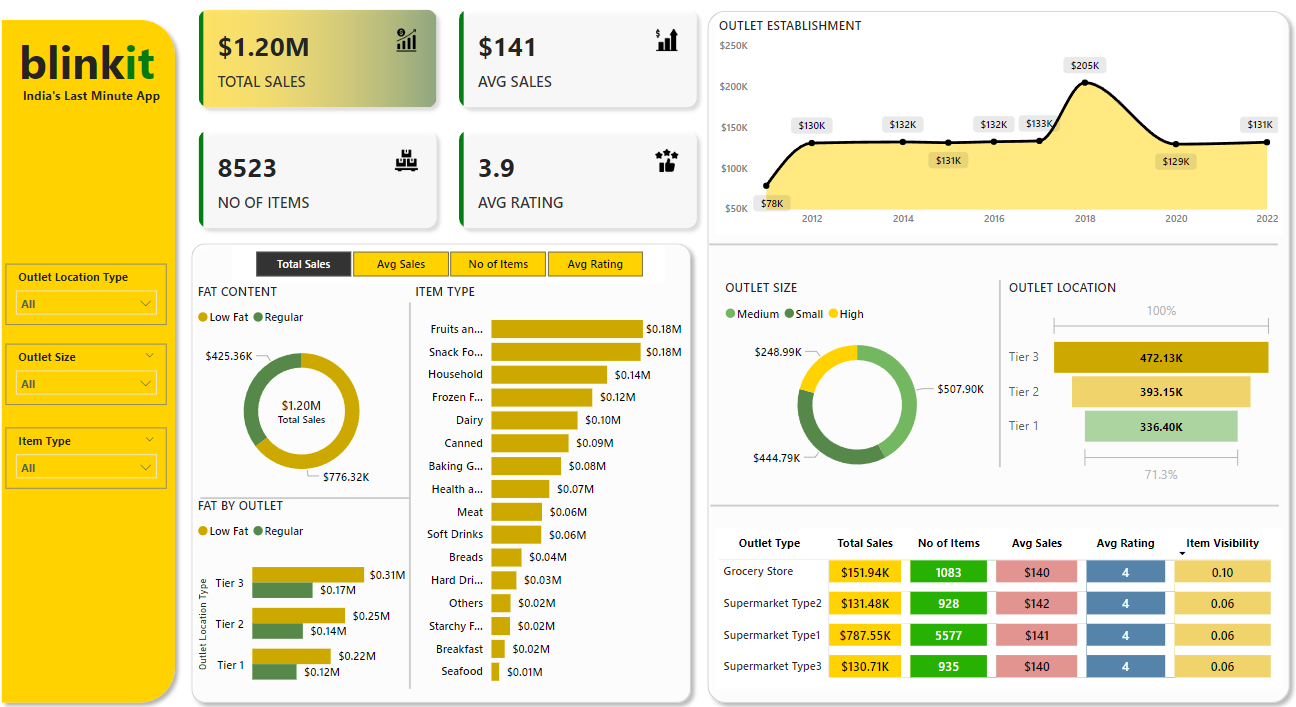

What the dashboard file says about the page in this screenshot:
{"tool":"powerbi","page":{"name":"Page 1","canvas":[1400,800],"ordinal":0},"visuals":[{"type":"shape","box":[0,49.5,204.1,750.4],"z":0},{"type":"textbox","box":[22.8,65.7,163.5,75.1],"z":1000},{"type":"textbox","box":[26.8,126,176.9,29.5],"z":2000},{"type":"cardVisual","fields":{"Data":["BlinkIT Grocery Data.Total Sales","BlinkIT Grocery Data.Avg Sales","BlinkIT Grocery Data.No of Items","BlinkIT Grocery Data.Avg Rating"]},"box":[203.8,30.8,569.7,269.4],"z":3000},{"type":"shape","box":[203.8,289.5,553.6,510.7],"z":4000},{"type":"donutChart","title":"FAT CONTENT","fields":{"Y":["BlinkIT Grocery Data.Avg Rating"],"Category":["BlinkIT Grocery Data.Item Fat Content"]},"box":[214.5,340.5,233.2,230.6],"z":5000},{"type":"slicer","fields":{"Values":["Metrics.Metrics"]},"box":[256,300.3,465.1,40.2],"z":6000},{"type":"cardVisual","fields":{"Data":["BlinkIT Grocery Data.Avg Rating"]},"box":[278.8,438.3,104.6,79.1],"z":7000},{"type":"clusteredBarChart","title":"FAT BY OUTLET","fields":{"Y":["BlinkIT Grocery Data.Avg Rating"],"Category":["BlinkIT Grocery Data.Outlet Location Type"],"Series":["BlinkIT Grocery Data.Item Fat Content"]},"box":[214.5,569.7,233.2,221.2],"z":8000},{"type":"shape","box":[222.5,569.7,225.2,4],"z":9000},{"type":"shape","box":[439.7,361.9,14.7,414.2],"z":10000},{"type":"barChart","title":"ITEM TYPE","fields":{"Y":["BlinkIT Grocery Data.Avg Rating"],"Category":["BlinkIT Grocery Data.Item Type"]},"box":[447.7,340.5,296.2,442.4],"z":11000},{"type":"shape","box":[757.4,40.2,642.1,760.1],"z":12000},{"type":"lineChart","title":"OUTLET ESTABLISHMENT","fields":{"Category":["BlinkIT Grocery Data.Outlet Establishment Year"],"Y":["BlinkIT Grocery Data.Total Sales"]},"box":[773.5,55,609.9,234.6],"z":13000},{"type":"shape","box":[768.1,289.5,609.9,20.1],"z":14000},{"type":"donutChart","title":"OUTLET SIZE","fields":{"Y":["BlinkIT Grocery Data.Total Sales"],"Category":["BlinkIT Grocery Data.Outlet Size"]},"box":[780.2,336.5,293.6,225.2],"z":15000},{"type":"shape","box":[1073.7,337.8,12.1,201.1],"z":16000},{"type":"funnel","title":"OUTLET LOCATION","fields":{"Y":["Sum(BlinkIT Grocery Data.Sales)"],"Category":["BlinkIT Grocery Data.Outlet Location Type"]},"box":[1084.5,336.5,293.6,225.2],"z":17000},{"type":"shape","box":[769.4,569.7,609.9,20.1],"z":18000},{"type":"pivotTable","fields":{"Rows":["BlinkIT Grocery Data.Outlet Type"],"Values":["BlinkIT Grocery Data.Total Sales","BlinkIT Grocery Data.No of Items","BlinkIT Grocery Data.Avg Sales","BlinkIT Grocery Data.Avg Rating","Avg(BlinkIT Grocery Data.Item Visibility)"]},"box":[773.5,603.2,609.9,172.9],"z":19000},{"type":"slicer","fields":{"Values":["BlinkIT Grocery Data.Outlet Location Type"]},"box":[13.4,320.4,172.9,65.7],"z":20000},{"type":"slicer","fields":{"Values":["BlinkIT Grocery Data.Outlet Size"]},"box":[13.4,406.2,172.9,65.7],"z":21000},{"type":"slicer","fields":{"Values":["BlinkIT Grocery Data.Item Type"]},"box":[13.4,496,172.9,65.7],"z":22000}]}

Visuals, with their boxes on the page's 1400x800 design canvas (x1, y1, x2, y2). These are canvas units, not pixel positions in the 1296x707 screenshot, which may show the page scaled, cropped or inside an application window:
shape: 0 50 204 800
textbox: 23 66 186 141
textbox: 27 126 204 156
cardVisual - BlinkIT Grocery Data.Total Sales x BlinkIT Grocery Data.Avg Sales: 204 31 774 300
shape: 204 290 757 800
"FAT CONTENT" donutChart: 214 340 448 571
slicer - Metrics.Metrics: 256 300 721 340
cardVisual - BlinkIT Grocery Data.Avg Rating: 279 438 383 517
"FAT BY OUTLET" clusteredBarChart: 214 570 448 791
shape: 222 570 448 574
shape: 440 362 454 776
"ITEM TYPE" barChart: 448 340 744 783
shape: 757 40 1400 800
"OUTLET ESTABLISHMENT" lineChart: 774 55 1383 290
shape: 768 290 1378 310
"OUTLET SIZE" donutChart: 780 336 1074 562
shape: 1074 338 1086 539
"OUTLET LOCATION" funnel: 1084 336 1378 562
shape: 769 570 1379 590
pivotTable - BlinkIT Grocery Data.Outlet Type x BlinkIT Grocery Data.Total Sales: 774 603 1383 776
slicer - BlinkIT Grocery Data.Outlet Location Type: 13 320 186 386
slicer - BlinkIT Grocery Data.Outlet Size: 13 406 186 472
slicer - BlinkIT Grocery Data.Item Type: 13 496 186 562
